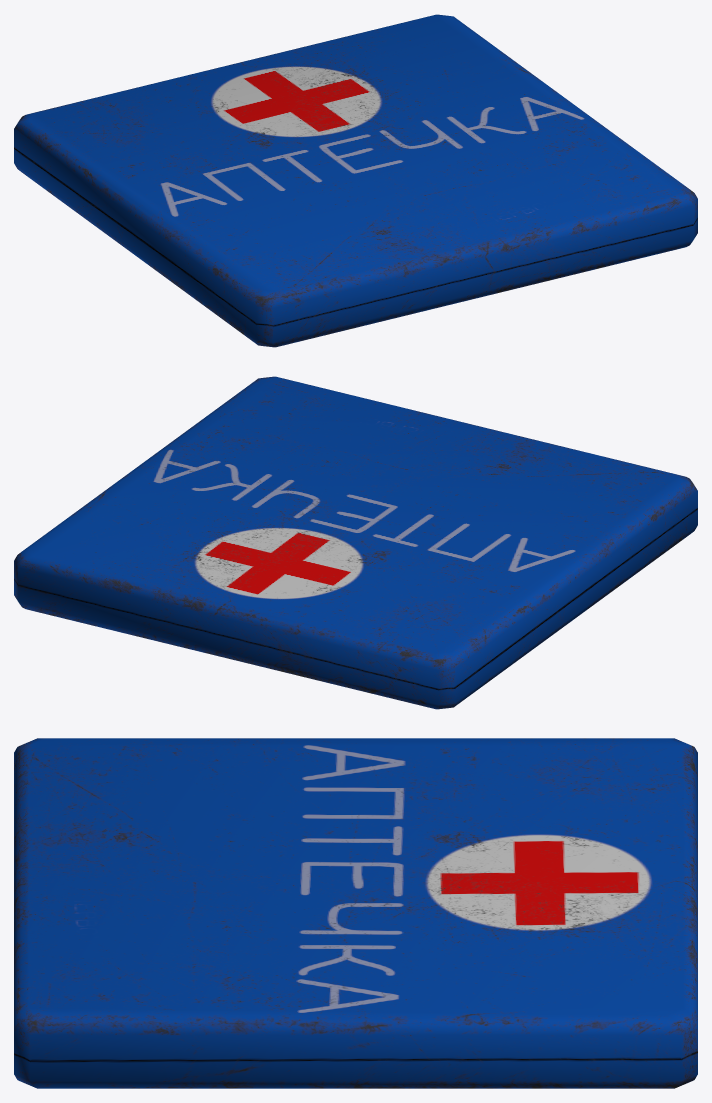
The model's file is first_aid.fbx.
The picture shows the model from 3 angles, top to bottom: view 1: azimuth 30°, elevation 25°; view 2: azimuth 150°, elevation 25°; view 3: azimuth 270°, elevation 25°; orthographic projection. The views are drawn at different scales.
Size of the model in its own units: 2093 by 246 by 2093.
